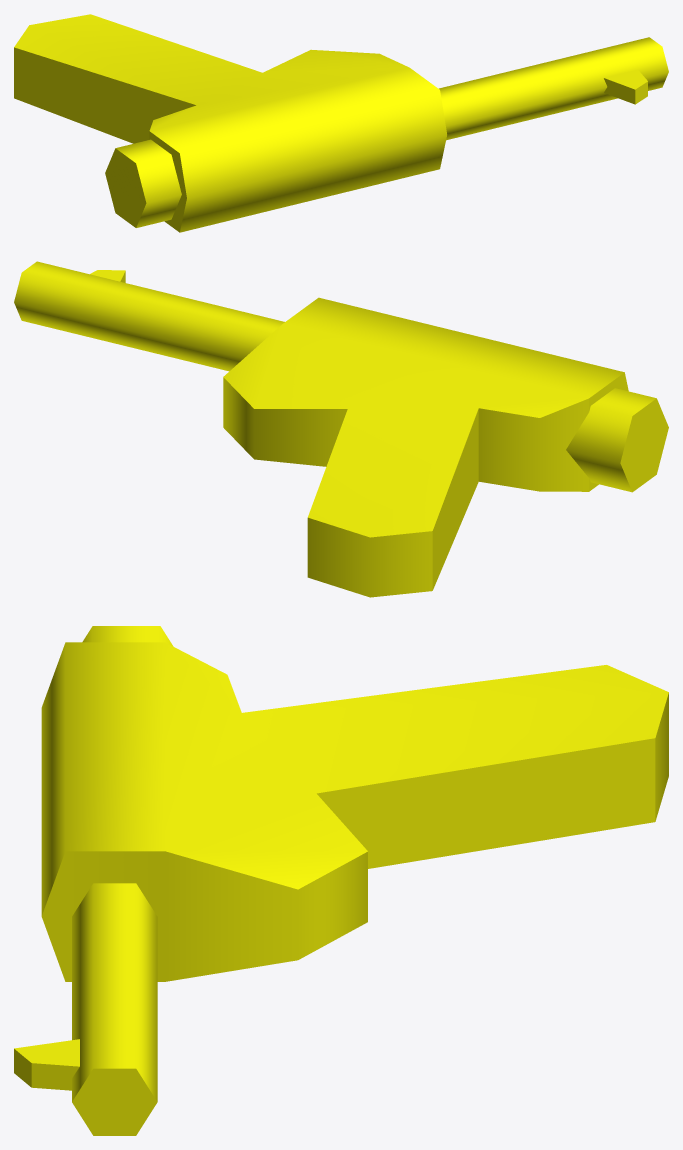
File: weapon_nambu.glb
3 views of the same model, one above another, from view 1: azimuth 30°, elevation 25°; view 2: azimuth 150°, elevation 25°; view 3: azimuth 270°, elevation 25° (orthographic). The views are drawn at different scales.
Parts seen in each view (by area): view 1: weapon_nambu; view 2: weapon_nambu; view 3: weapon_nambu.
Boxes of the visible parts, box(x1,y1,x2,y2) form: weapon_nambu: box(14, 14, 668, 232); weapon_nambu: box(14, 261, 668, 597); weapon_nambu: box(14, 626, 668, 1135).
Bounding box in the file's own units: 0.5454 × 0.0786 × 0.3571.
Materials: 1 (1 with a texture image).
